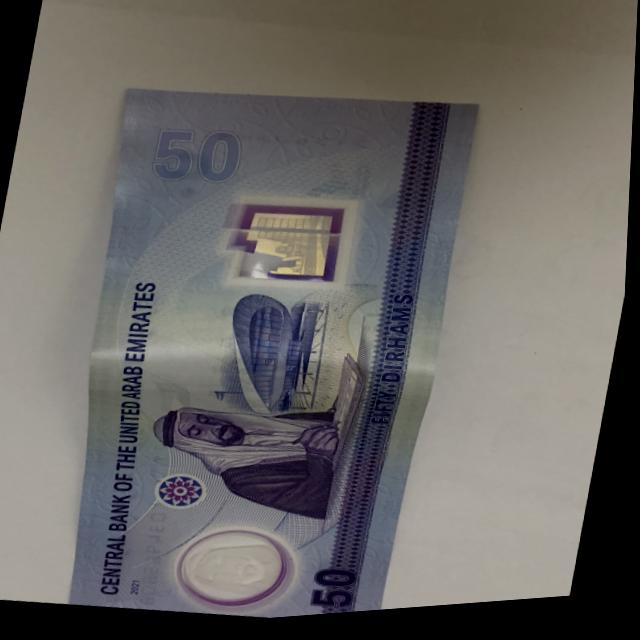50_AED: (59, 87, 482, 618)
